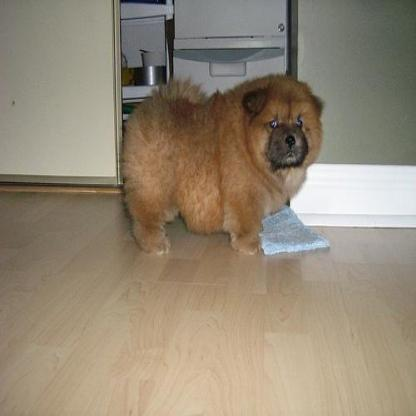chow: (121, 72, 325, 259)
